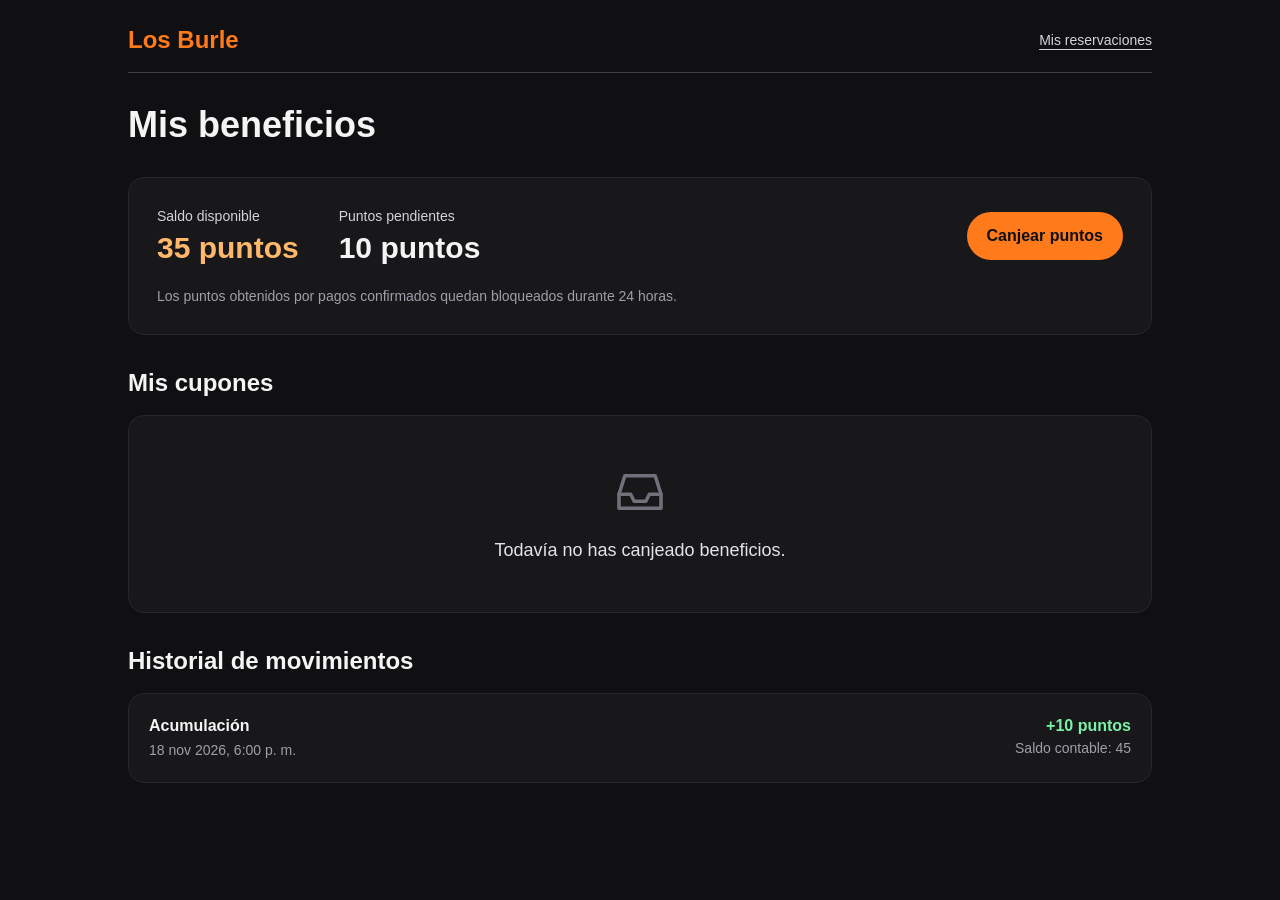
H18 y H19 › muestra saldo, pendientes e historial y bloquea el saldo insuficiente
Expected: the text "35 puntos" is shown, x1=157 y1=230 x2=299 y2=266
Expected: the text "10 puntos" is shown, x1=339 y1=230 x2=480 y2=266
Click the button "Canjear puntos" at (1045, 236), box x1=966 y1=212 x2=1123 y2=260
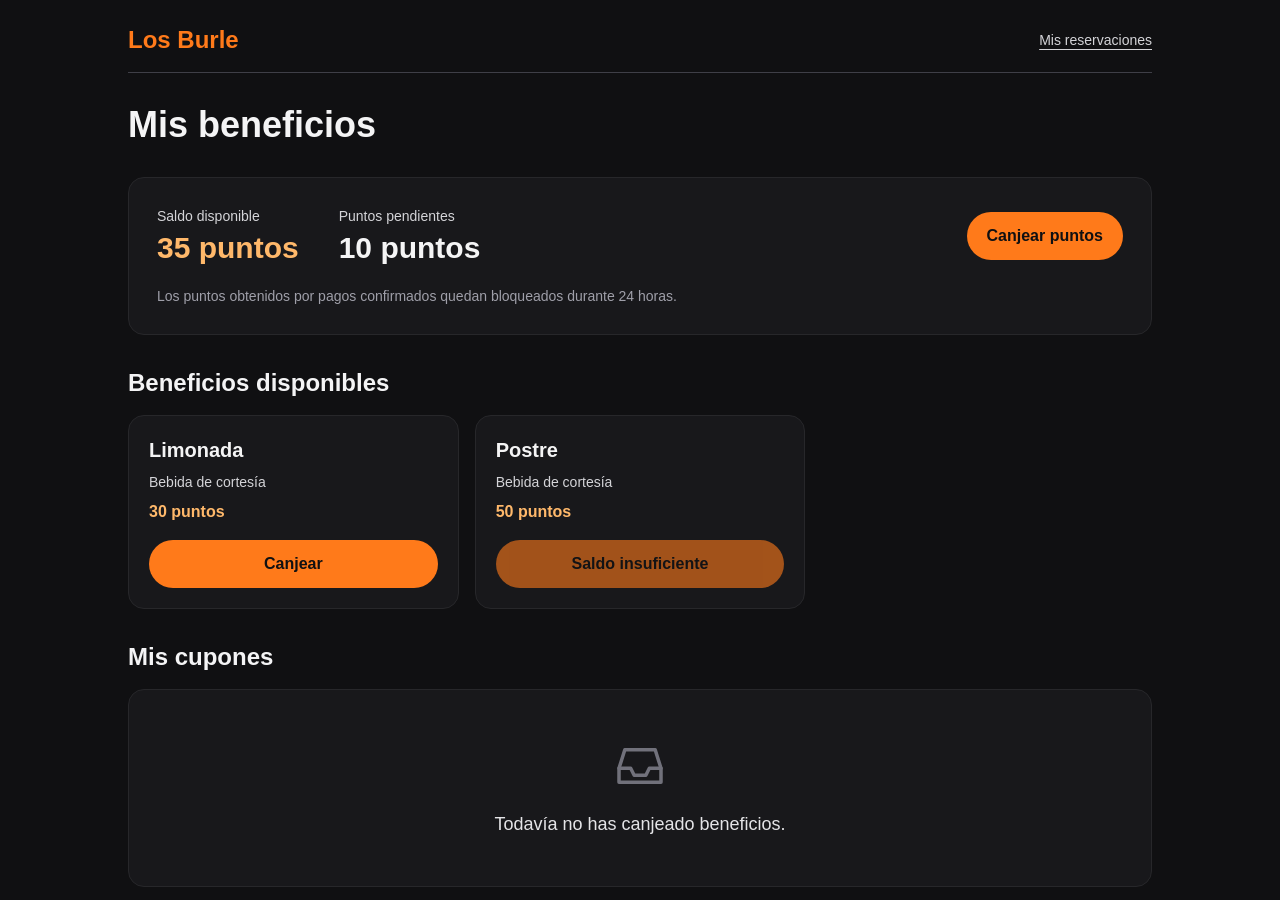
Expected: the text "Todavía no has canjeado beneficios." is shown, x1=494 y1=814 x2=786 y2=834
Expected: the button with aria-label "Canjear Postre" is disabled, x1=496 y1=540 x2=784 y2=588
